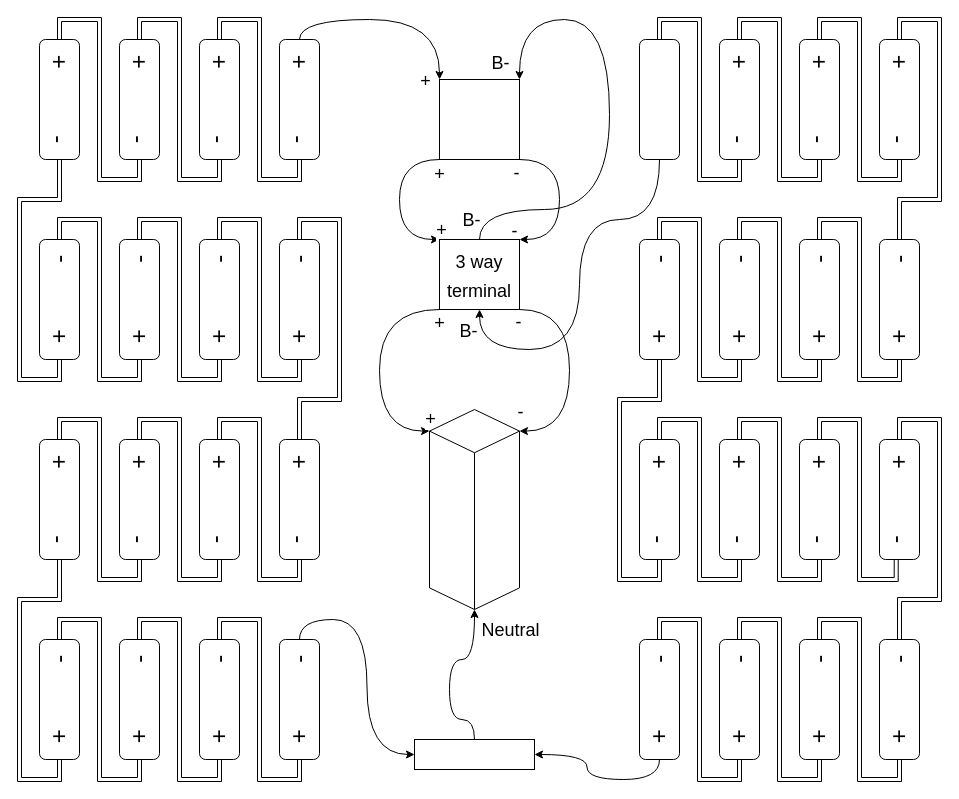
Some shapes in this 959 by 799 pixel diagram are drawn without their labels. Each missing label, with the box of its shape:
+ B-: (638, 38, 680, 160)
2P Breaker: (438, 78, 520, 160)
Bus Bar: (414, 738, 534, 770)
UPS: (428, 408, 520, 610)
